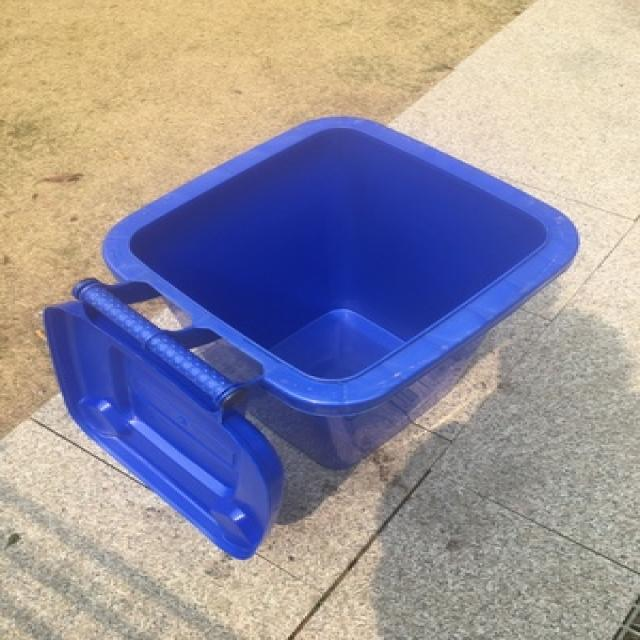ash bin: (34, 114, 576, 560)
